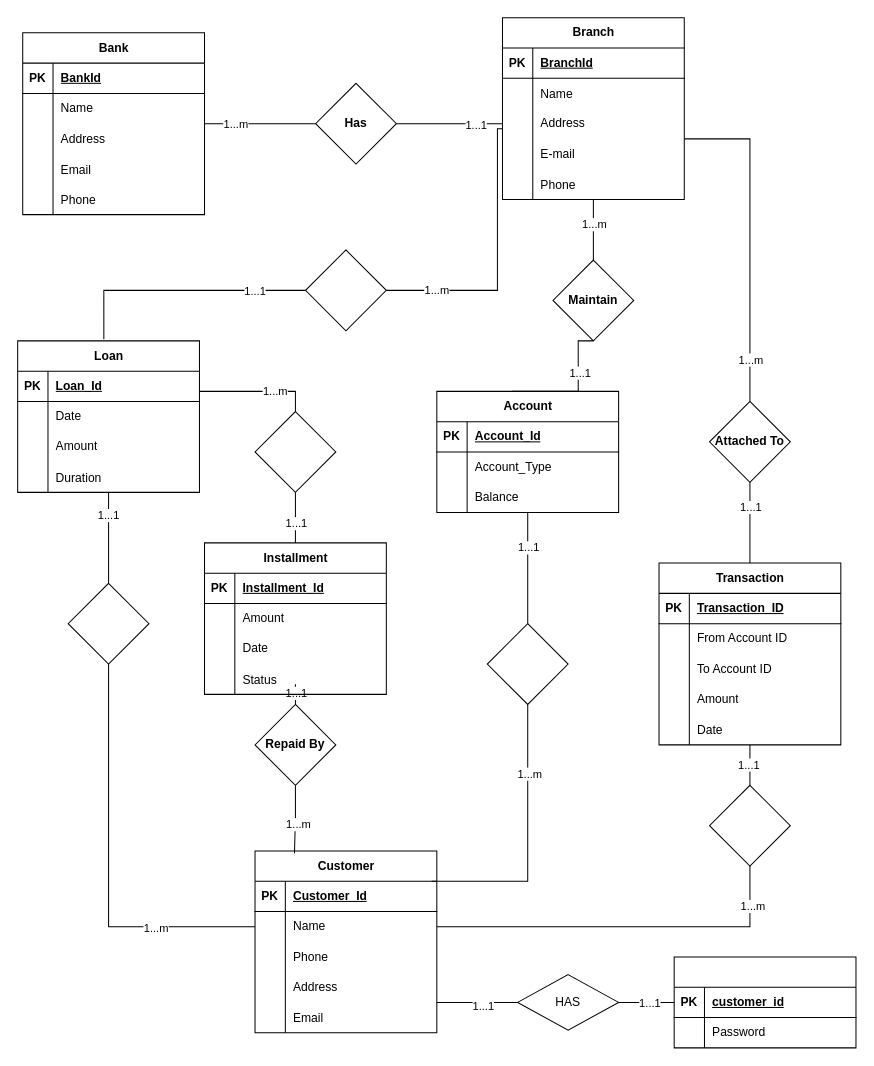
Image size: 874x1066. Some labels were removed from this diagram. The shapes that lost their labels are listed below. From the top down, each one's box as (x1, y1, x2, y2) in pixels, then its label:
(305, 249, 386, 331): Offers
(254, 411, 336, 492): Repaid In
(67, 582, 149, 664): Availed By
(486, 623, 568, 704): Hold By
(709, 784, 790, 866): Made By
(673, 956, 856, 1048): Credential
